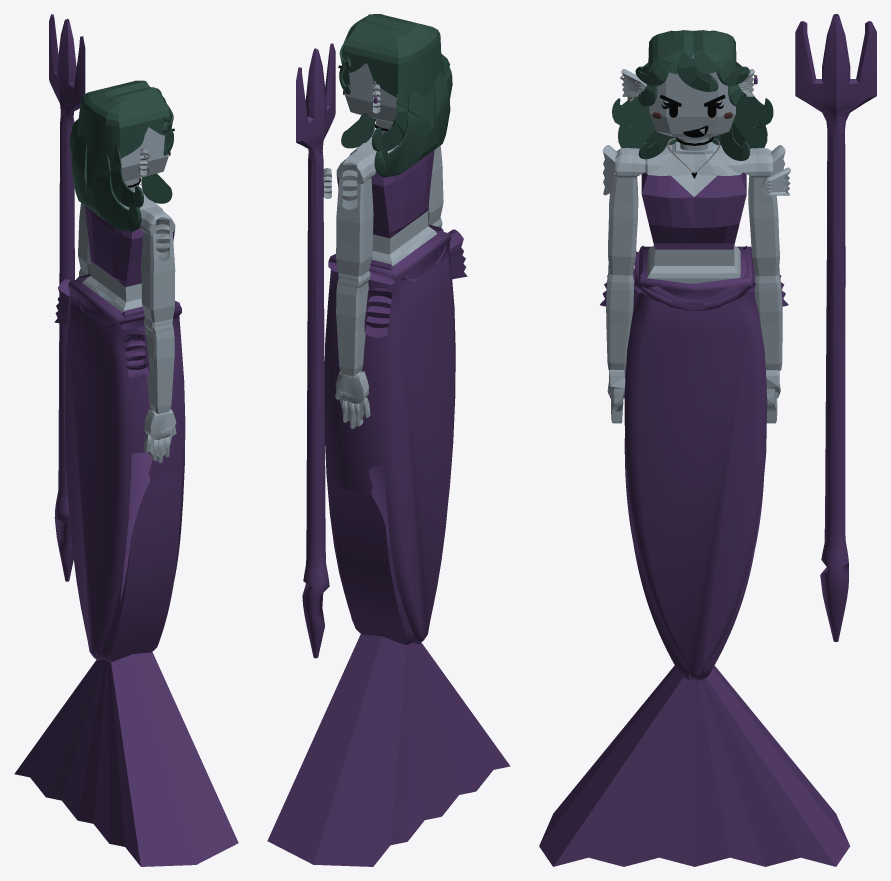
The model's file is SIREN 1.fbx.
3 renders of one model, left to right at view 1: azimuth 30°, elevation 25°; view 2: azimuth 150°, elevation 25°; view 3: azimuth 270°, elevation 25°, orthographic. The views are drawn at different scales.
Visible parts, largest first — view 1: Cube.001, NurbsPath.002, NurbsPath, NurbsPath.003, hair base wavy.001, hair wisp medium down.001, torso.002, arms.006, arms.001, NurbsPath.001, Cube.007, waist.002 (+7 smaller); view 2: Cube.001, NurbsPath.002, NurbsPath.003, NurbsPath, hair base wavy.001, hair wisp medium down.001, torso.002, arms.007, arms.008, Cube.007, waist.002, head.003 (+7 smaller); view 3: NurbsPath.002, Cube.001, NurbsPath.003, torso.002, head.003, waist.002, collar.004, arms.006, NurbsPath, arms.007, arms.001, hair base wavy.001 (+14 smaller).
Part boxes in pixels (bbox=[...]): Cube.001: bbox=[14, 652, 238, 866]; NurbsPath.002: bbox=[63, 278, 185, 660]; NurbsPath: bbox=[76, 274, 181, 661]; NurbsPath.003: bbox=[49, 14, 85, 581]; hair base wavy.001: bbox=[77, 80, 170, 167]; hair wisp medium down.001: bbox=[71, 134, 141, 231]; torso.002: bbox=[85, 206, 174, 286]; arms.006: bbox=[141, 230, 175, 322]; arms.001: bbox=[145, 328, 174, 413]; NurbsPath.001: bbox=[75, 295, 183, 600]; Cube.007: bbox=[54, 279, 149, 378]; waist.002: bbox=[82, 262, 142, 312]; Cube.001: bbox=[267, 634, 510, 866]; NurbsPath.002: bbox=[324, 229, 455, 644]; NurbsPath.003: bbox=[296, 43, 335, 658]; NurbsPath: bbox=[331, 224, 443, 644]; hair base wavy.001: bbox=[343, 14, 445, 102]; hair wisp medium down.001: bbox=[374, 72, 450, 177]; torso.002: bbox=[337, 150, 434, 238]; arms.007: bbox=[336, 178, 373, 276]; arms.008: bbox=[336, 282, 368, 376]; Cube.007: bbox=[364, 229, 467, 337]; waist.002: bbox=[372, 211, 437, 265]; head.003: bbox=[345, 63, 396, 122]; NurbsPath.002: bbox=[624, 246, 767, 680]; Cube.001: bbox=[539, 665, 850, 866]; NurbsPath.003: bbox=[795, 14, 876, 641]; torso.002: bbox=[641, 172, 746, 249]; head.003: bbox=[649, 51, 735, 140]; waist.002: bbox=[647, 245, 740, 283]; collar.004: bbox=[645, 141, 743, 196]; arms.006: bbox=[608, 173, 638, 271]; NurbsPath: bbox=[634, 245, 754, 679]; arms.007: bbox=[748, 176, 779, 271]; arms.001: bbox=[606, 273, 634, 370]; hair base wavy.001: bbox=[648, 30, 736, 68].
Bounding box in the file's own units: 326 × 2379 × 874.
